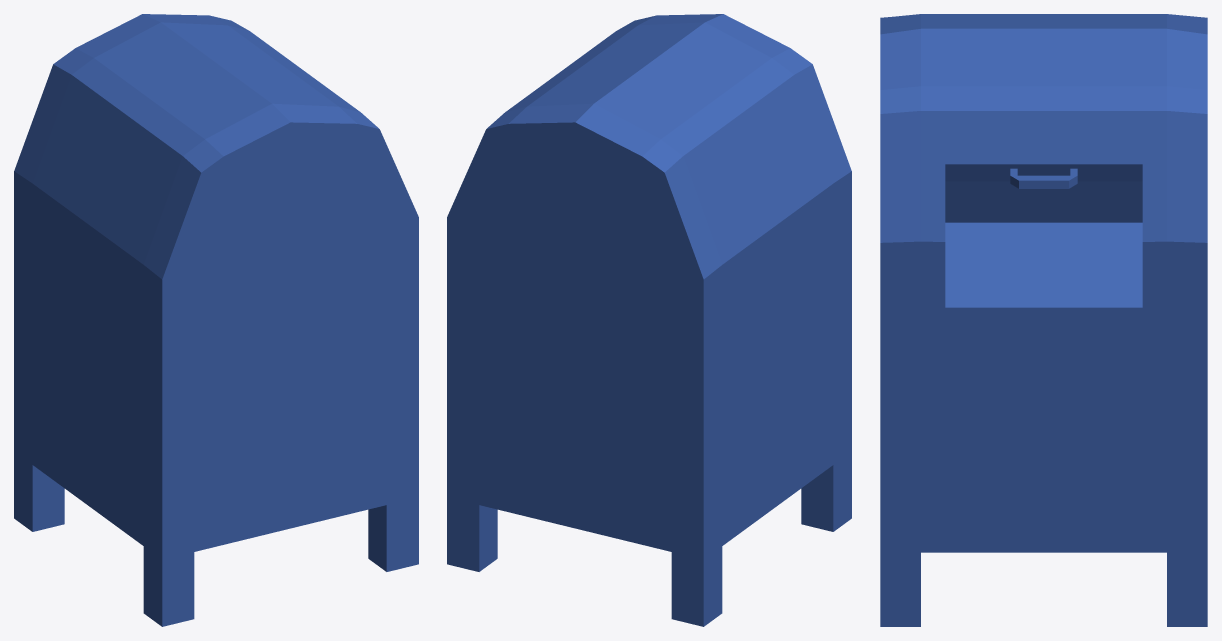
File: mailbox.glb
The picture shows the model from 3 angles, left to right: view 1: azimuth 30°, elevation 25°; view 2: azimuth 150°, elevation 25°; view 3: azimuth 270°, elevation 25°; orthographic projection. The views are drawn at different scales.
Parts seen in each view (by area): view 1: mailbox; view 2: mailbox; view 3: mailbox.
Part boxes in pixels (<box>): mailbox: <box>14,14,418,626</box>; mailbox: <box>447,14,851,626</box>; mailbox: <box>880,14,1207,626</box>.
Bounding box in the file's own units: 0.6777 × 1.21 × 0.6777.
